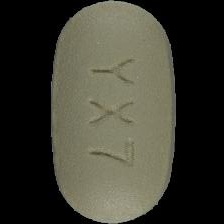0007-4882: (0, 0, 224, 224)
